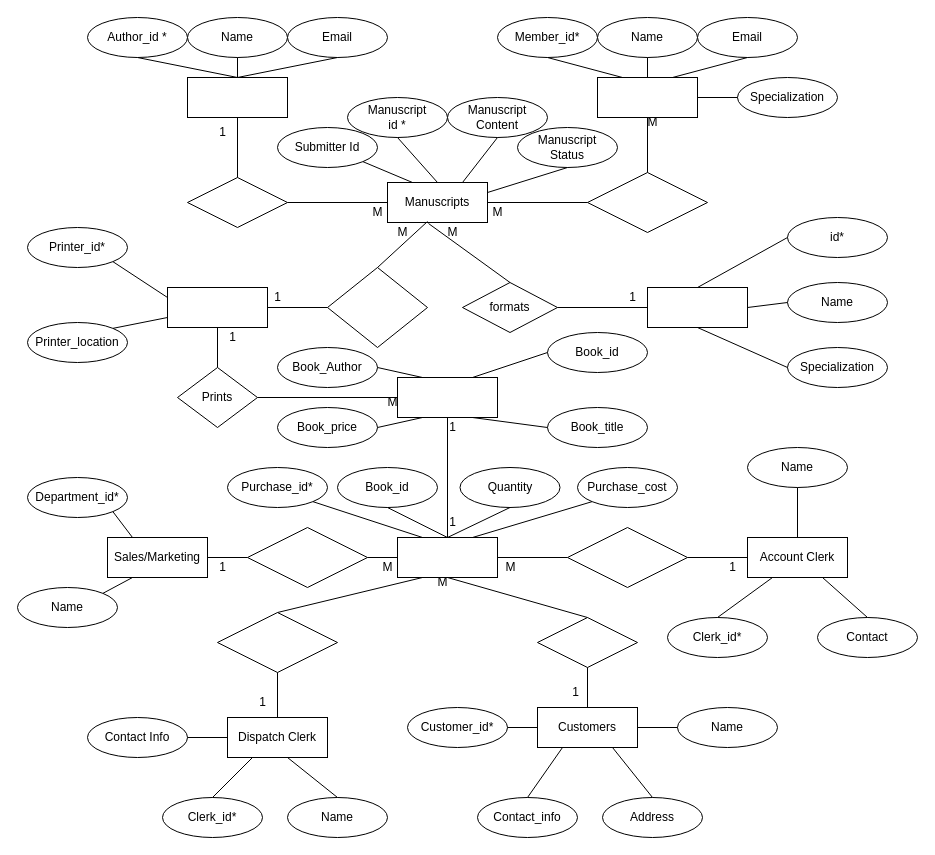
Image size: 935x855. Some labels were removed from this diagram. The box of each missing label's shape, as (x1, y1, x2, y2) in pixels:
analyzes: (586, 172, 708, 232)
Authors: (186, 76, 288, 118)
Collective Members: (596, 76, 698, 118)
Dispatches any purchase: (216, 612, 338, 672)
Manages Transactions: (566, 526, 688, 588)
Observes Sales: (246, 526, 368, 588)
Order: (536, 616, 638, 668)
Printed Books: (396, 376, 498, 418)
Printer: (166, 286, 268, 328)
Printer gets manuscript: (326, 266, 428, 348)
Submits: (186, 176, 288, 228)
Transactions: (396, 536, 498, 578)
Typesetter: (646, 286, 748, 328)
